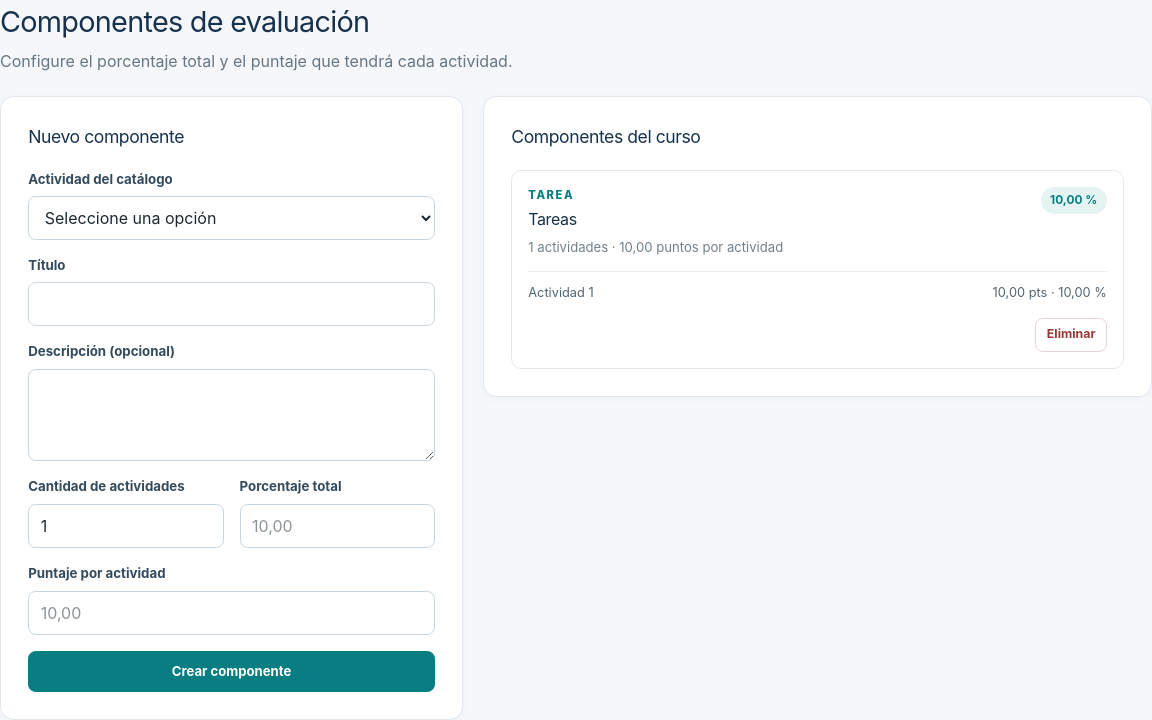
solicita confirmación aun sin notas; cancelar no envía DELETE y confirmar actualiza la lista
This screenshot has width=1152, height=720.
Click the button "Eliminar" at (1071, 335), box 1036,318 -> 1107,352
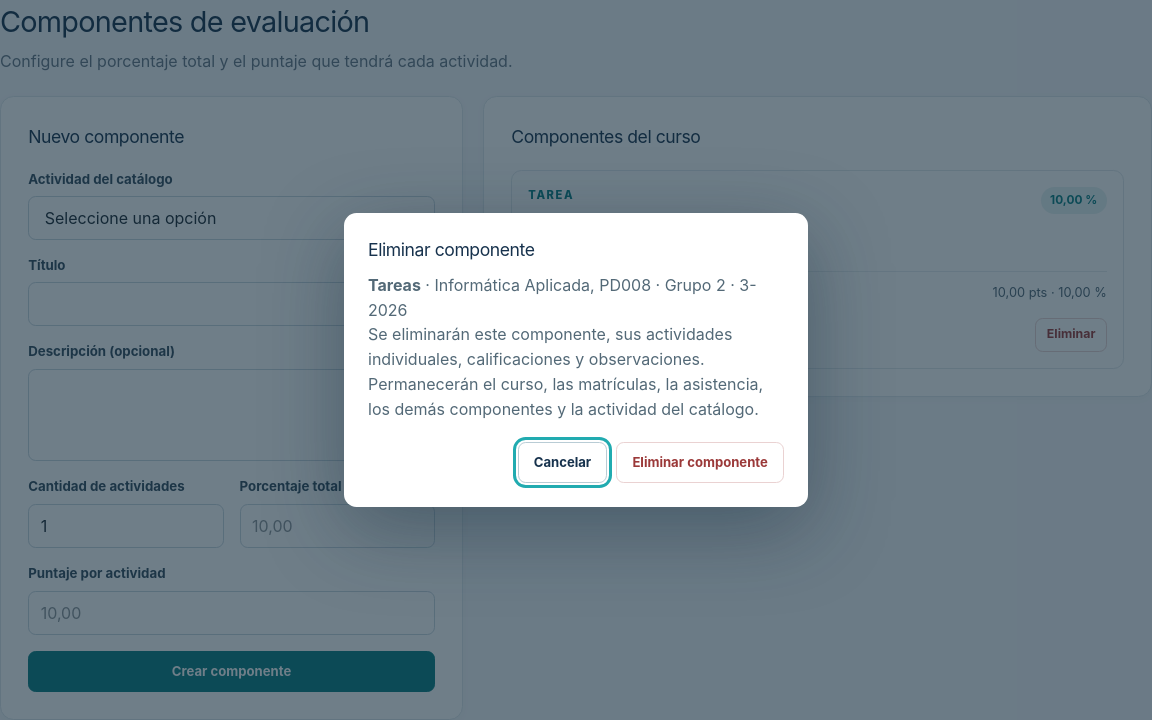
Expected: the text "Tareas · Informática Aplicada, PD008 · Grupo 2 · 3-2026" is shown, 368,273 -> 784,322
Expected: the text "matrículas, la asistencia, los demás componentes" is shown, 368,324 -> 763,419
Click the button "Cancelar" at (562, 463), box 518,442 -> 607,483
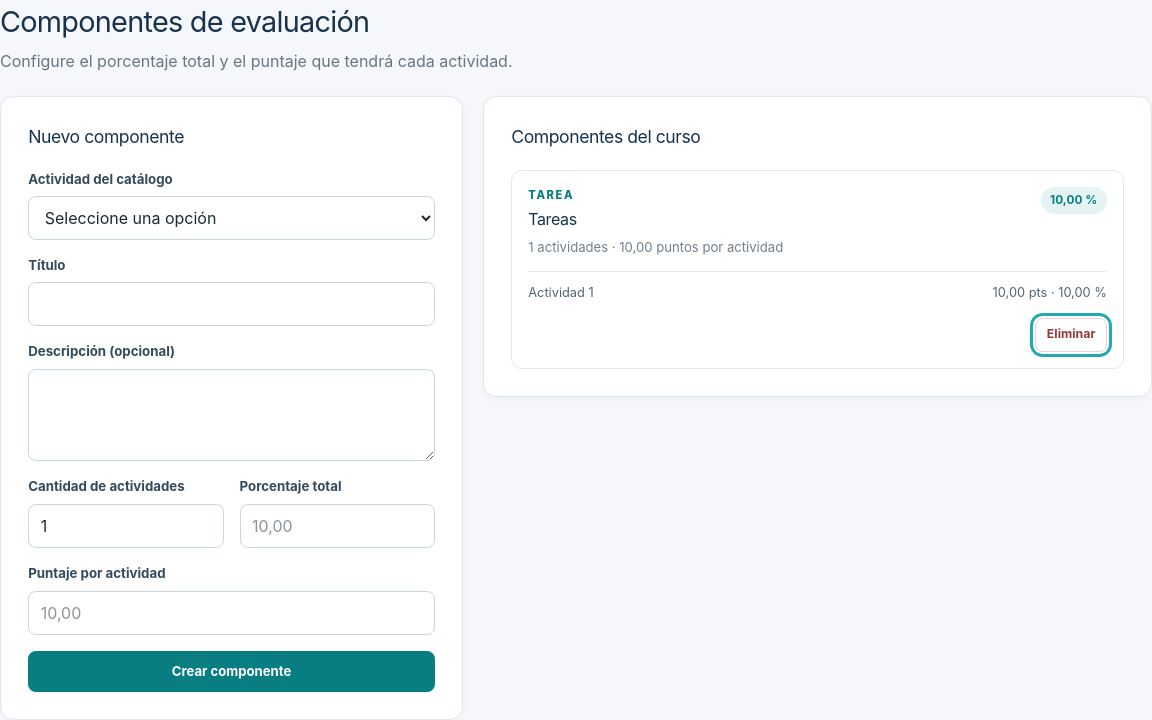
Click the button "Eliminar" at (1071, 335), box 1036,318 -> 1107,352
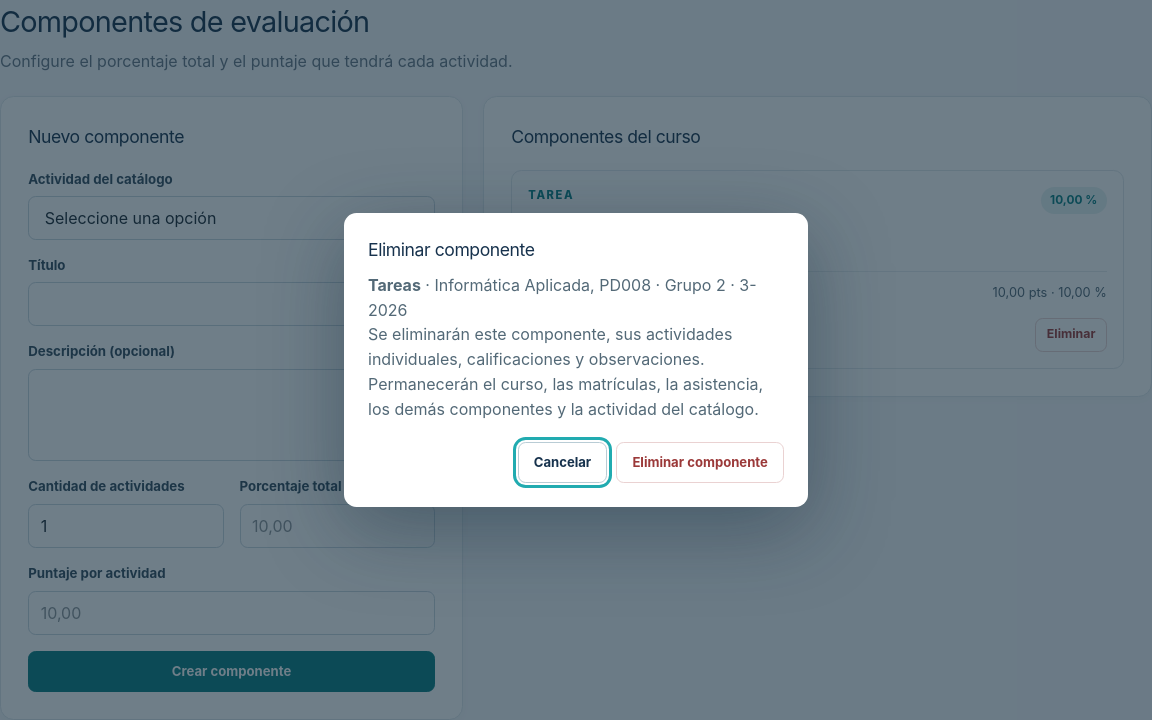
Click the button "Eliminar componente" at (700, 463), box 616,442 -> 784,483
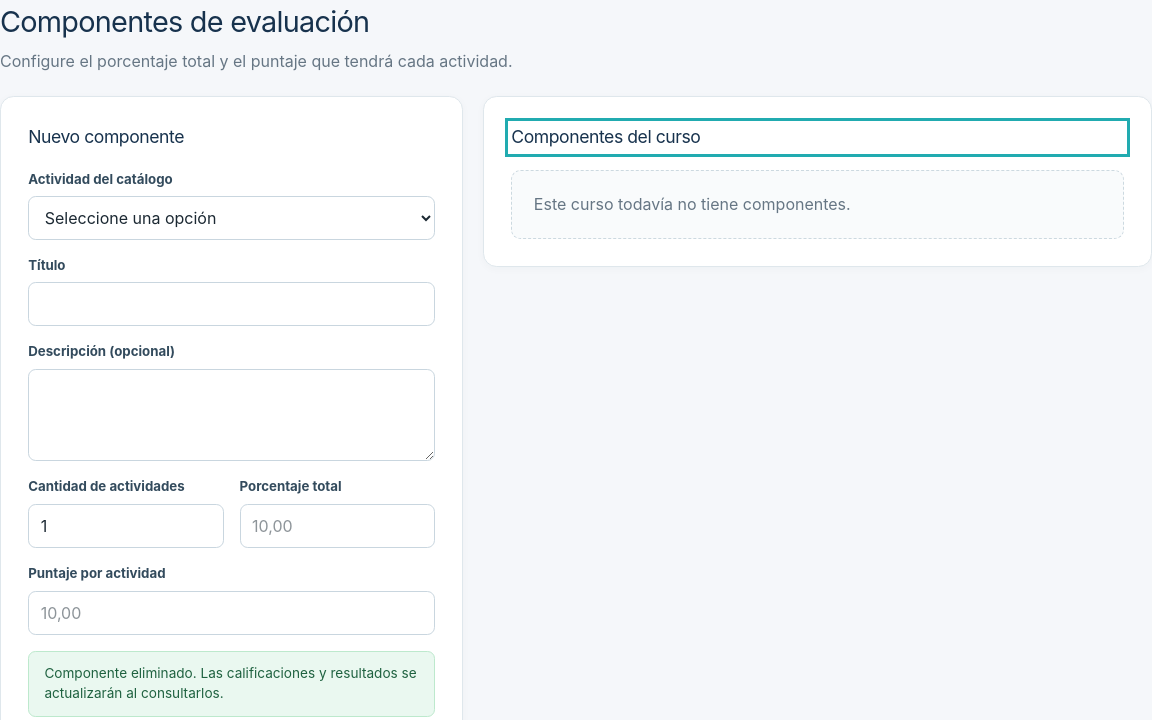
Expected: the text "Este curso todavía no tiene componentes." is shown, 511,170 -> 1124,239
Expected: the text "Componente eliminado" is shown, 44,666 -> 417,701
